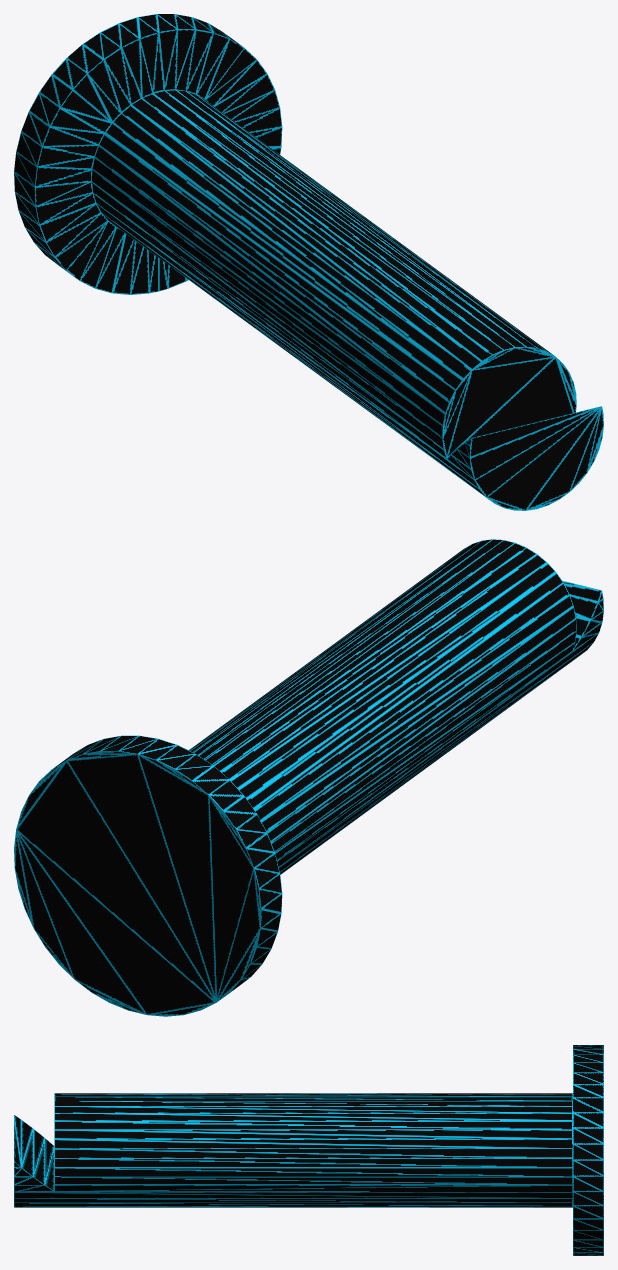
File: Mold1-Sprue holding pin-M.glb
3 renders of one model, top to bottom at view 1: azimuth 30°, elevation 25°; view 2: azimuth 150°, elevation 25°; view 3: azimuth 270°, elevation 25°, orthographic. The views are drawn at different scales.
Visible parts, largest first — view 1: arrache carotte.001; view 2: arrache carotte.001; view 3: arrache carotte.001.
Boxes of the visible parts, <box> form: arrache carotte.001: <box>14,14,603,510</box>; arrache carotte.001: <box>14,539,603,1016</box>; arrache carotte.001: <box>14,1045,603,1255</box>.
Bounding box in the file's own units: 0.8001 × 0.8007 × 2.24.
Materials: 1 (1 with a texture image).
